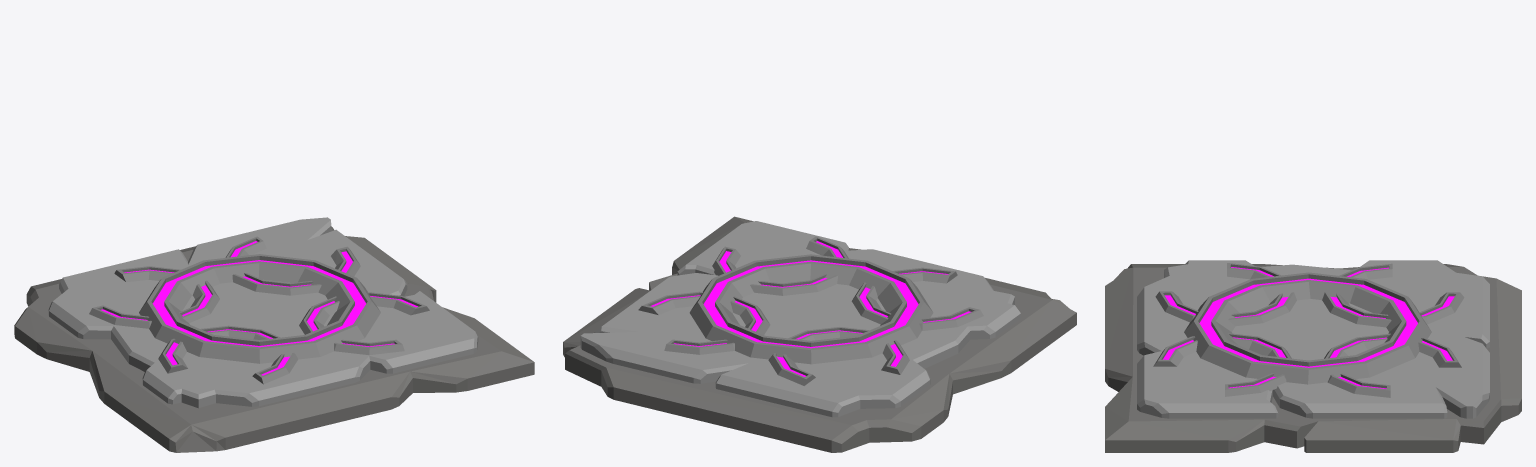
Rendered from plate_9.fbx.
3 renders of one model, left to right at view 1: azimuth 30°, elevation 25°; view 2: azimuth 150°, elevation 25°; view 3: azimuth 270°, elevation 25°, orthographic. The views are drawn at different scales.
Visible parts, largest first — view 1: plate_9, plate_base_9, Цилиндр.003; view 2: plate_9, plate_base_9, Цилиндр.003; view 3: plate_9, plate_base_9, Цилиндр.003.
Boxes of the visible parts, box(x1,y1,x2,y2) form: plate_9: box(48, 217, 478, 408); plate_base_9: box(14, 226, 534, 452); Цилиндр.003: box(89, 236, 429, 384); plate_9: box(580, 221, 1020, 417); plate_base_9: box(563, 216, 1076, 452); Цилиндр.003: box(638, 236, 983, 385); plate_9: box(1137, 260, 1489, 418); plate_base_9: box(1105, 264, 1521, 452); Цилиндр.003: box(1153, 263, 1464, 397).
Size of the model in its own units: 1.3 by 1.1 by 1.3.
